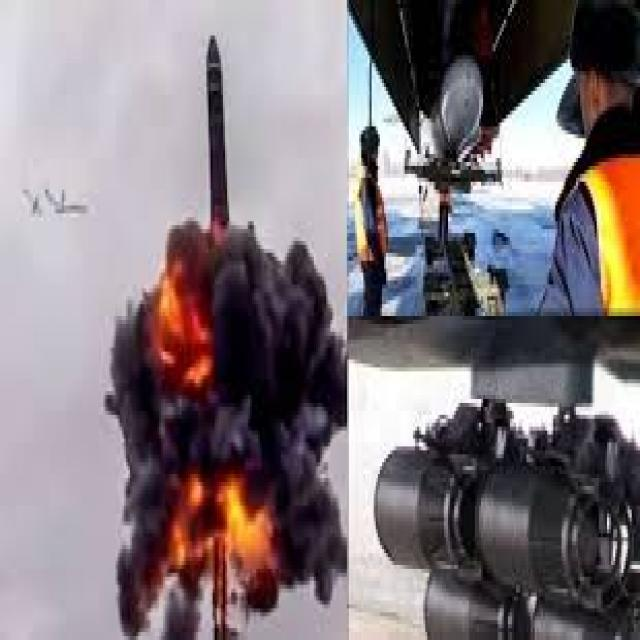Missile: (198, 32, 234, 237)
